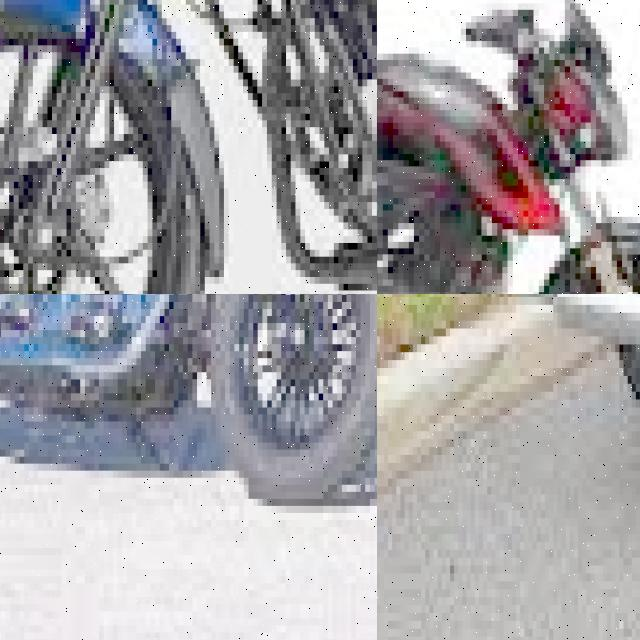bike: (0, 0, 377, 294), (0, 294, 377, 513), (377, 0, 640, 294), (516, 294, 640, 640)
